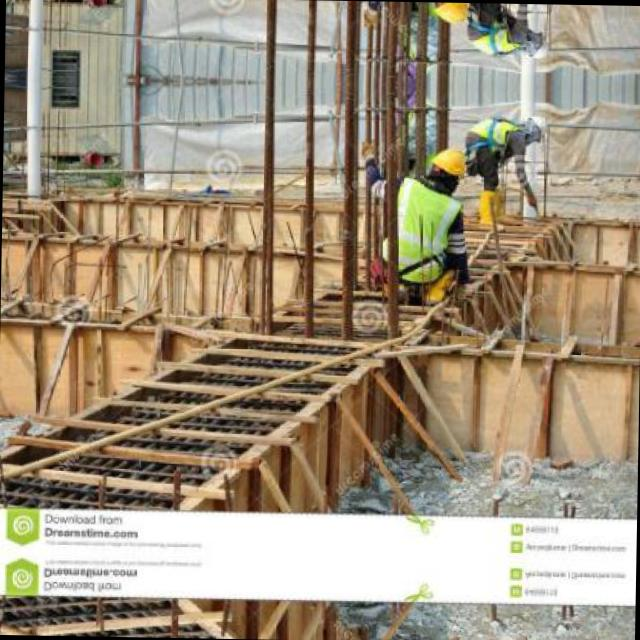helmet: (428, 145, 466, 184), (432, 2, 471, 26), (523, 112, 549, 140), (524, 34, 550, 62)
